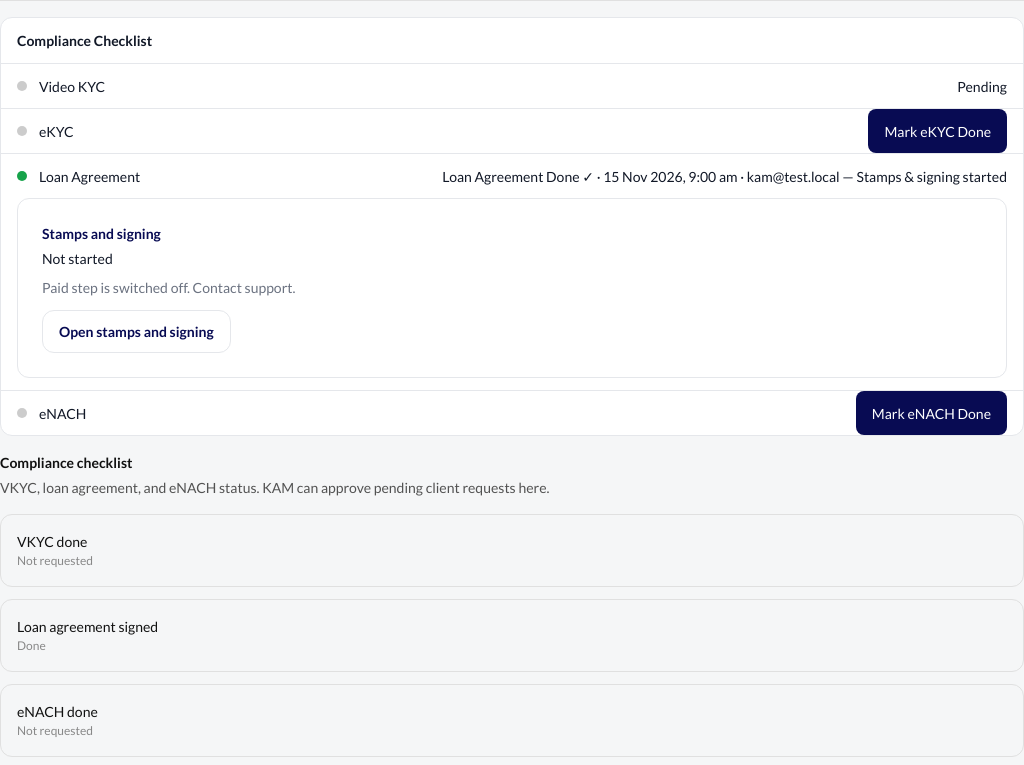
Test case: B2cEvComplianceReview › fills an expired document link once, saves the new links, then runs the stamp check
The image size is (1024, 765).
Click the button with test id "open-stamps-and-signing" at point(136, 332), box [42,310,231,353]
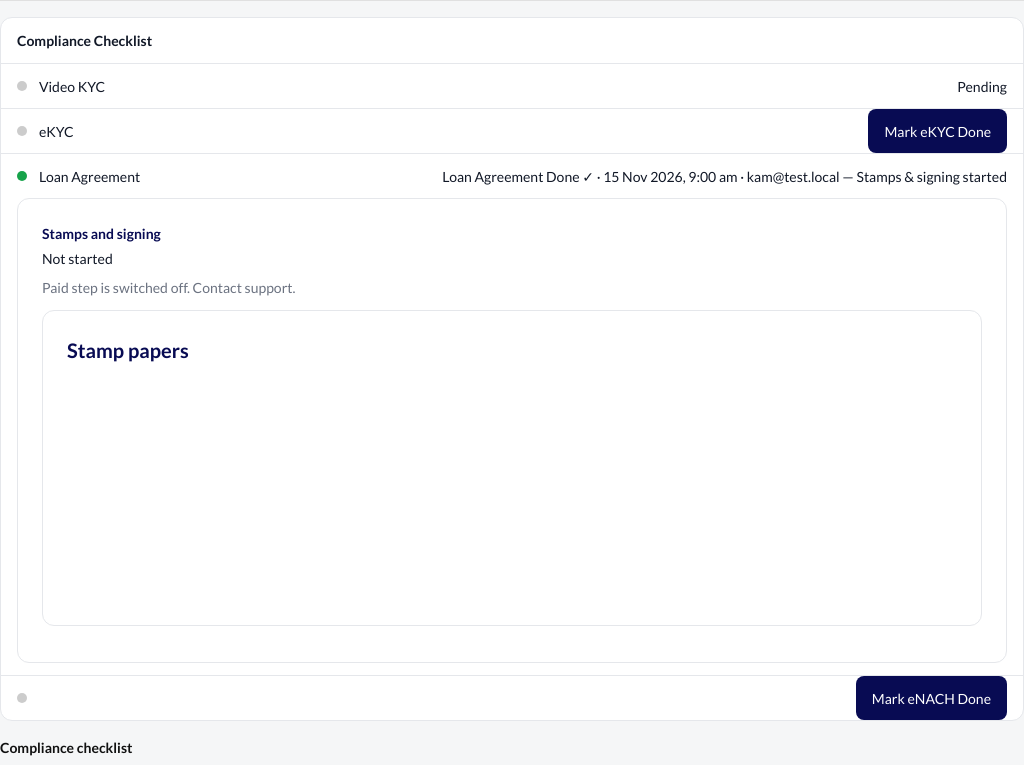
Expected: the element with test id "kam-loan-agreement-progress" is shown, [42,298,982,638]
